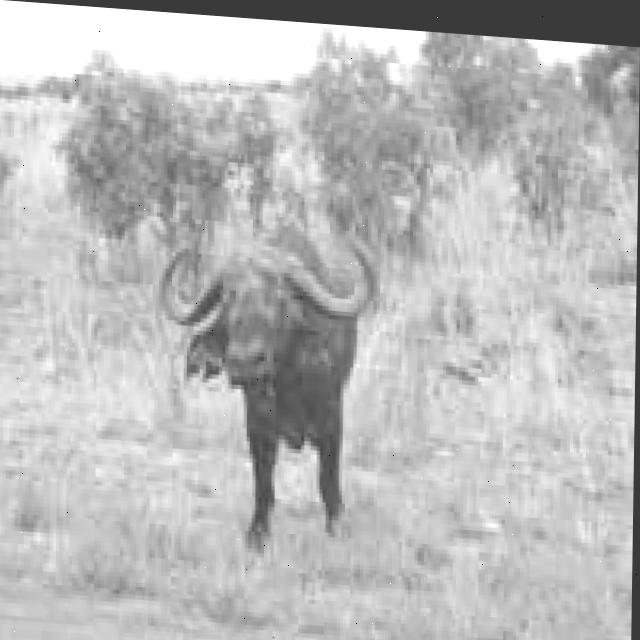Buffalo: (158, 213, 378, 566)
